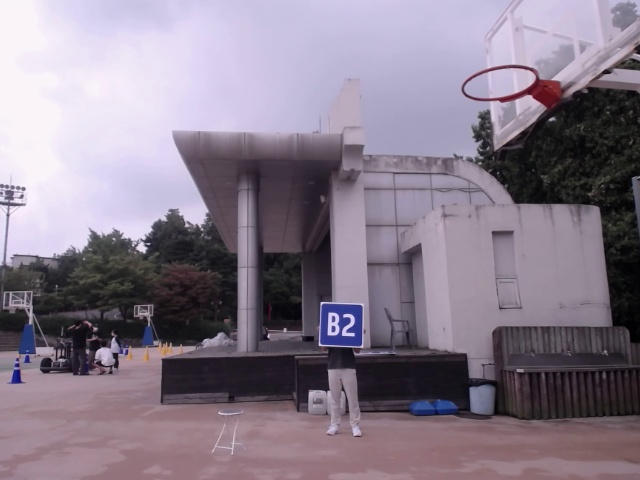delivery_b2: (319, 302, 363, 349)
